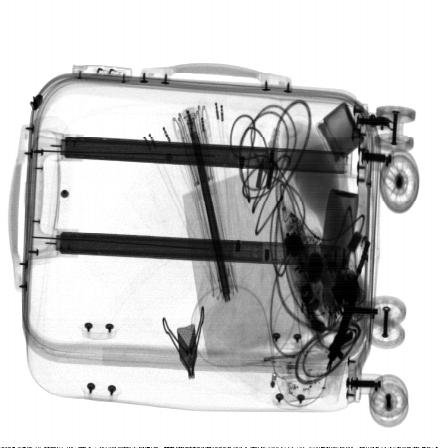Gun: (325, 236, 372, 375)
